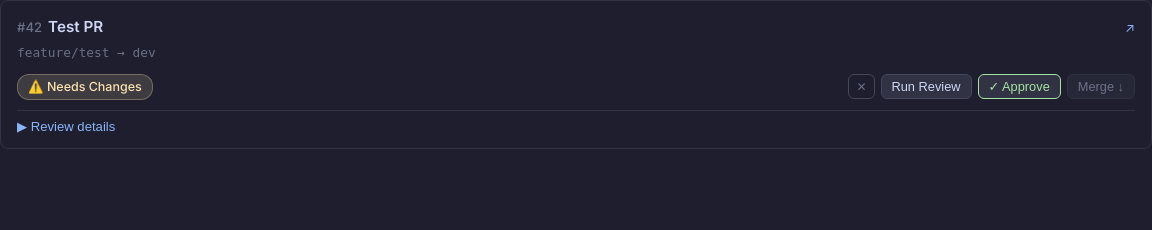
Scenario: PRCard › renders without crash when reviewResult.dimensions is an empty array
This screenshot has width=1152, height=230.
Click the button "▶ Review details".
click(66, 126)  # box [17,119,115,134]
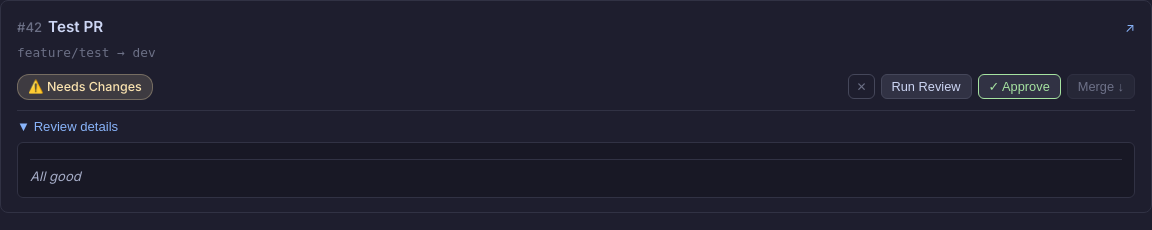
Now the text "All good" is shown, box [30,159,1122,187]
